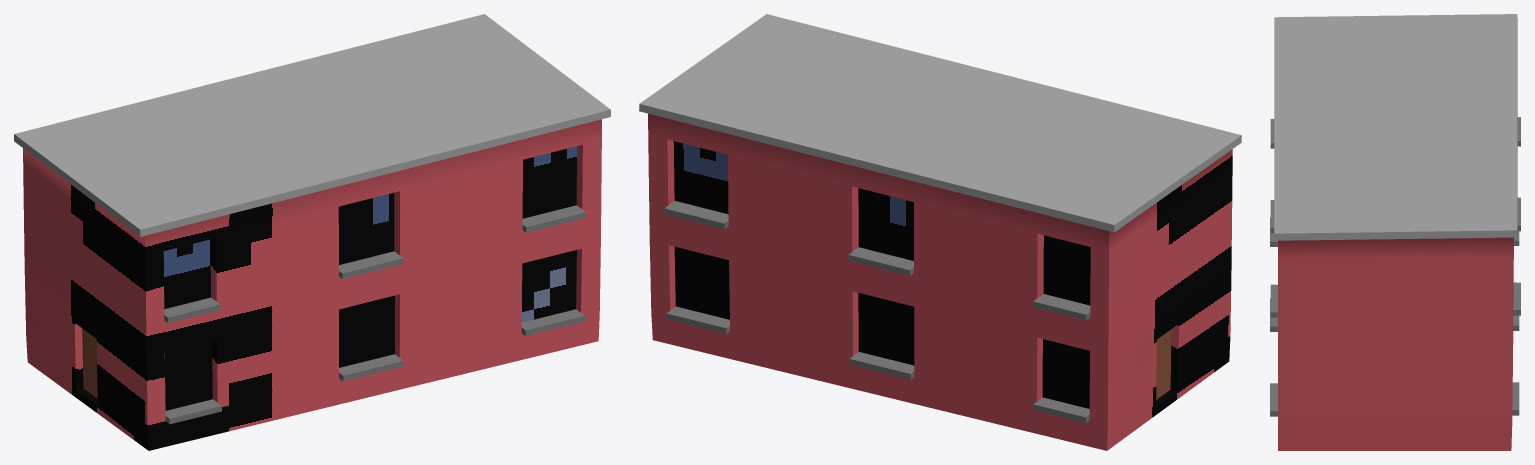
Rendered from model_building_long.fbx.
3 views of the same model, side by side, from view 1: azimuth 30°, elevation 25°; view 2: azimuth 150°, elevation 25°; view 3: azimuth 270°, elevation 25° (orthographic). The views are drawn at different scales.
Visible parts, largest first — view 1: SM_BuildingLong; view 2: SM_BuildingLong; view 3: SM_BuildingLong.
Part boxes in pixels (bbox=[...]): SM_BuildingLong: bbox=[14, 14, 610, 450]; SM_BuildingLong: bbox=[639, 14, 1241, 450]; SM_BuildingLong: bbox=[1270, 14, 1520, 450].
Bounding box in the file's own units: 37.67 × 17.88 × 18.03.
5 materials, 3 textured.
